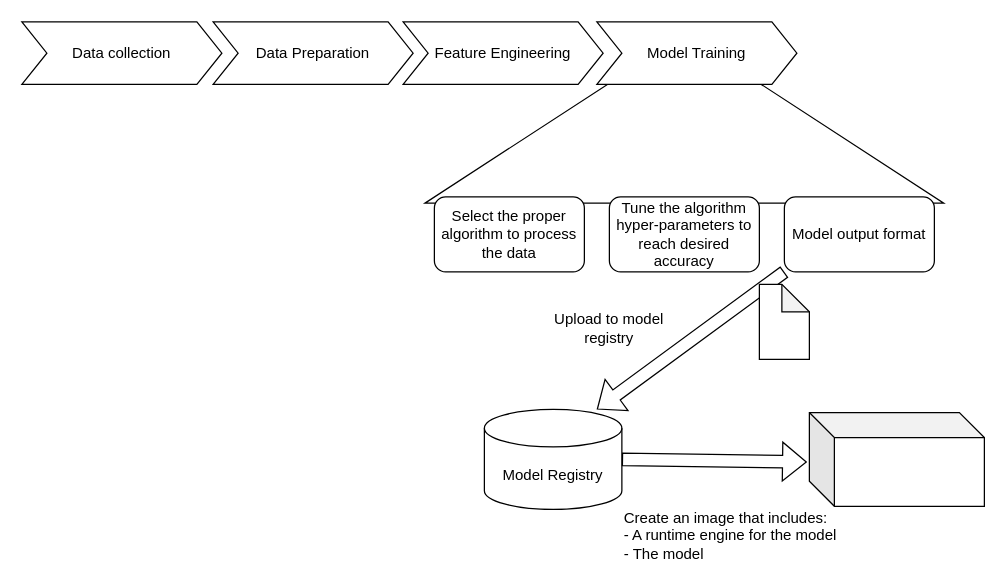
Image size: 1006x585. Some labels were removed from this diagram. The box of each missing label's shape, as (x1, y1, x2, y2) in pixels:
Deployable image: (808, 411, 984, 506)
model: (758, 283, 809, 359)
